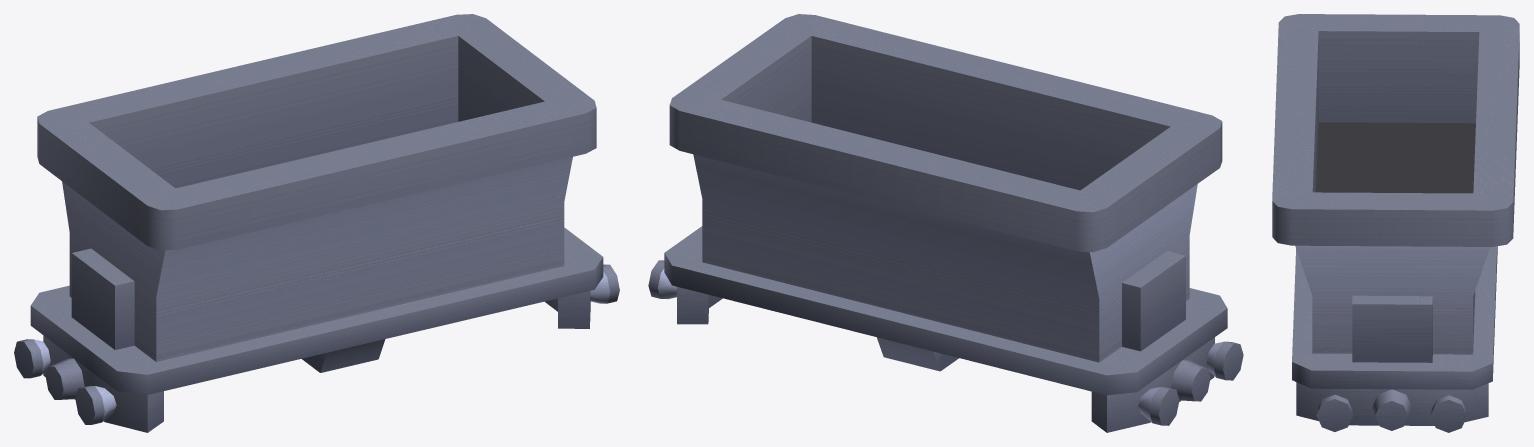
The model's file is train-carriage-coal_lev2.glb.
3 views of the same model, side by side, from view 1: azimuth 30°, elevation 25°; view 2: azimuth 150°, elevation 25°; view 3: azimuth 270°, elevation 25° (orthographic). The views are drawn at different scales.
Parts seen in each view (by area): view 1: train-carriage-coal_lev2; view 2: train-carriage-coal_lev2; view 3: train-carriage-coal_lev2.
Part boxes in pixels (<box>): train-carriage-coal_lev2: <box>14,14,619,432</box>; train-carriage-coal_lev2: <box>648,14,1243,432</box>; train-carriage-coal_lev2: <box>1272,14,1519,432</box>.
Size of the model in its own units: 2.71 by 1.14 by 1.23.
1 material, 1 textured.
